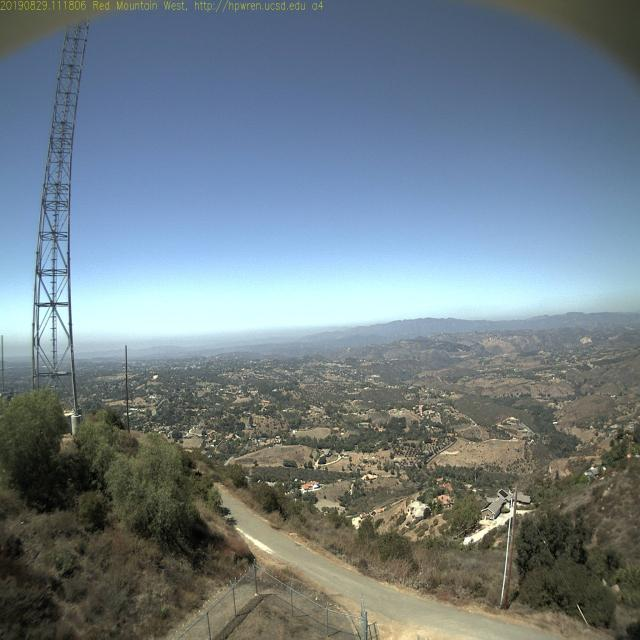smoke: (333, 326, 356, 340)
